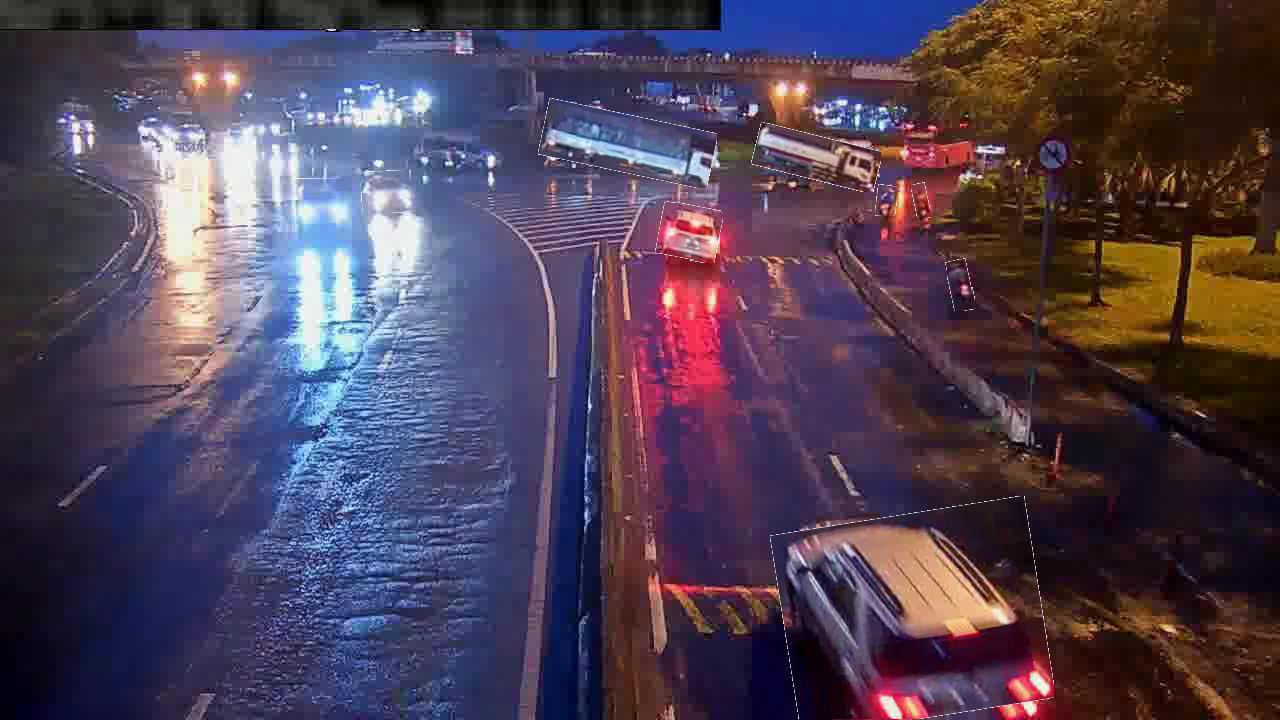8: (540, 107, 716, 181), (753, 129, 881, 186)
container: (777, 505, 1049, 719), (658, 204, 722, 262), (292, 179, 350, 233), (362, 170, 412, 214)
motorbike: (948, 259, 974, 312), (876, 185, 898, 217), (912, 183, 930, 219)
